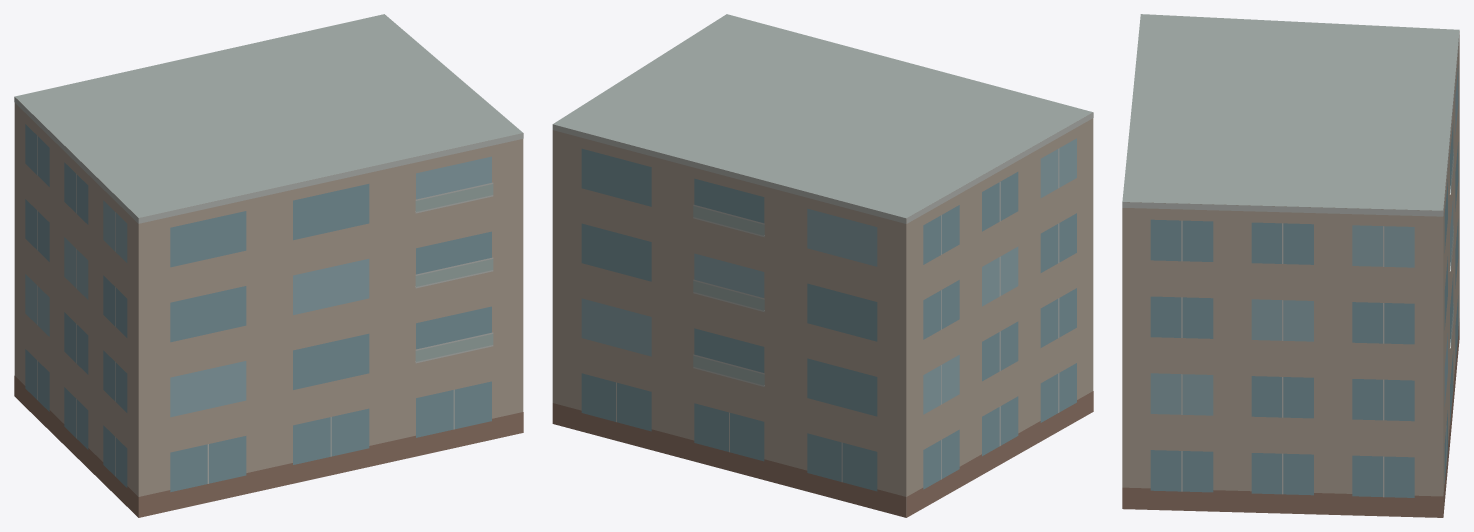
File: survey-upis-32760148.glb
3 renders of one model, left to right at view 1: azimuth 30°, elevation 25°; view 2: azimuth 150°, elevation 25°; view 3: azimuth 270°, elevation 25°, orthographic. The views are drawn at different scales.
Visible parts, largest first — view 1: survey-upis-32760148.tmp; view 2: survey-upis-32760148.tmp; view 3: survey-upis-32760148.tmp.
Part boxes in pixels (<box>): survey-upis-32760148.tmp: <box>14,14,523,517</box>; survey-upis-32760148.tmp: <box>552,14,1093,517</box>; survey-upis-32760148.tmp: <box>1122,14,1459,517</box>.
Size of the model in its own units: 17.46 by 12.7 by 12.65.
